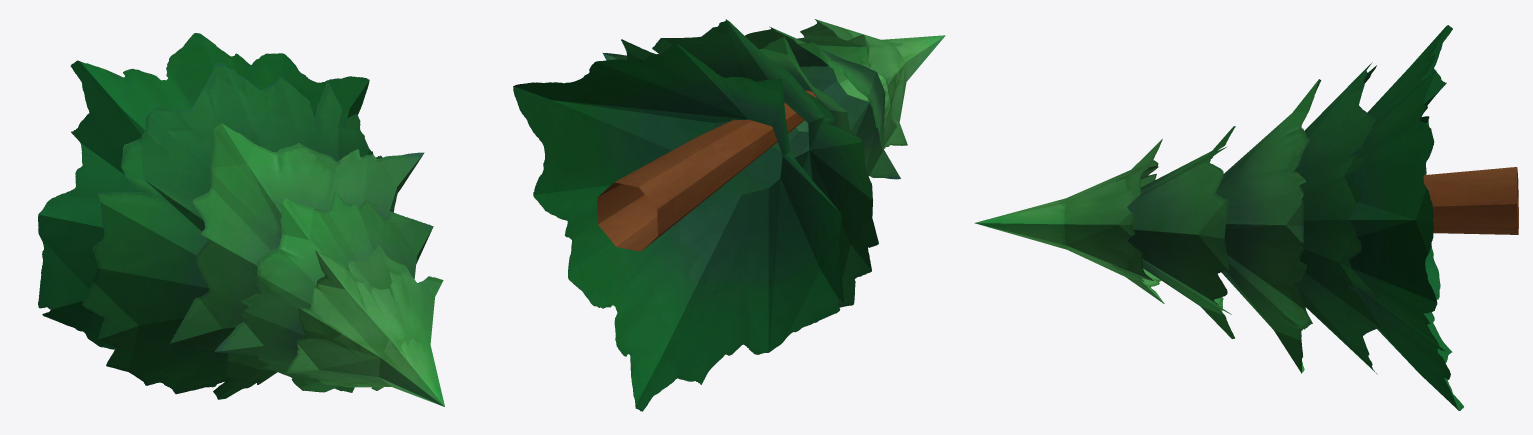
File: caodi_shu_03.fbx
The picture shows the model from 3 angles, left to right: view 1: azimuth 30°, elevation 25°; view 2: azimuth 150°, elevation 25°; view 3: azimuth 270°, elevation 25°; orthographic projection. The views are drawn at different scales.
Parts seen in each view (by area): view 1: caodi_shu_03; view 2: caodi_shu_03; view 3: caodi_shu_03.
Part boxes in pixels (x1=…): caodi_shu_03: x1=38, y1=33, x2=444, y2=406; caodi_shu_03: x1=513, y1=19, x2=945, y2=411; caodi_shu_03: x1=974, y1=25, x2=1518, y2=410.
Bounding box in the file's own units: 1.55 × 1.55 × 2.19.
